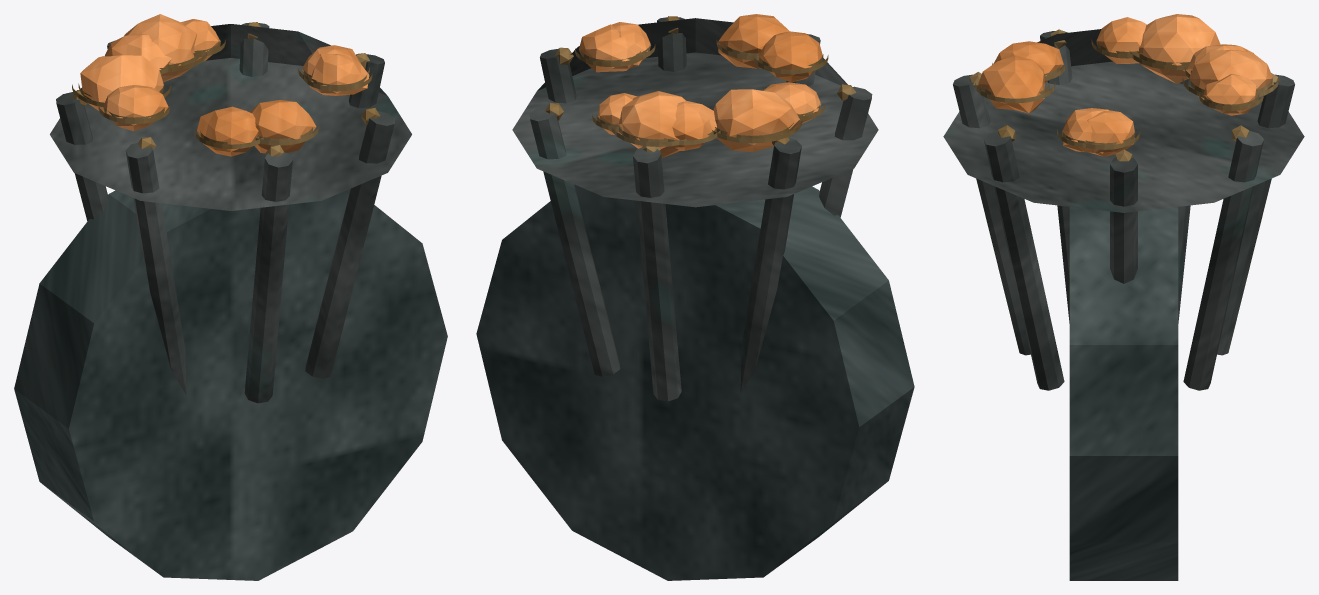
Rendered from 0532_brazier_07.glb.
3 views of the same model, side by side, from view 1: azimuth 30°, elevation 25°; view 2: azimuth 150°, elevation 25°; view 3: azimuth 270°, elevation 25° (orthographic).
Parts seen in each view (by area): view 1: stone_dark, iron, amber, brass; view 2: stone_dark, iron, amber, brass; view 3: iron, stone_dark, amber, brass.
Boxes of the visible parts, left/top/right/bottom form: stone_dark: left=14, top=188, right=447, bottom=580; iron: left=50, top=23, right=411, bottom=403; amber: left=80, top=14, right=369, bottom=156; brass: left=72, top=22, right=379, bottom=156; stone_dark: left=476, top=185, right=914, bottom=580; iron: left=512, top=17, right=878, bottom=401; amber: left=579, top=14, right=822, bottom=157; brass: left=545, top=16, right=856, bottom=151; iron: left=943, top=29, right=1304, bottom=390; stone_dark: left=1069, top=207, right=1178, bottom=580; amber: left=978, top=14, right=1272, bottom=156; brass: left=969, top=29, right=1279, bottom=161.
Bounding box in the file's own units: 1.4 × 1.79 × 1.16.
Materials: 4 (4 with a texture image).
